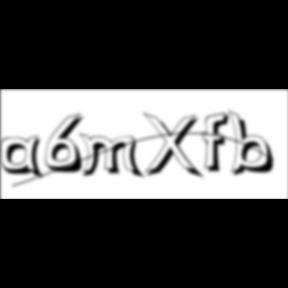6: (46, 112, 90, 176)
X: (142, 112, 206, 182)
a: (0, 135, 48, 182)
b: (228, 109, 282, 179)
f: (202, 111, 235, 175)
m: (79, 132, 147, 181)
